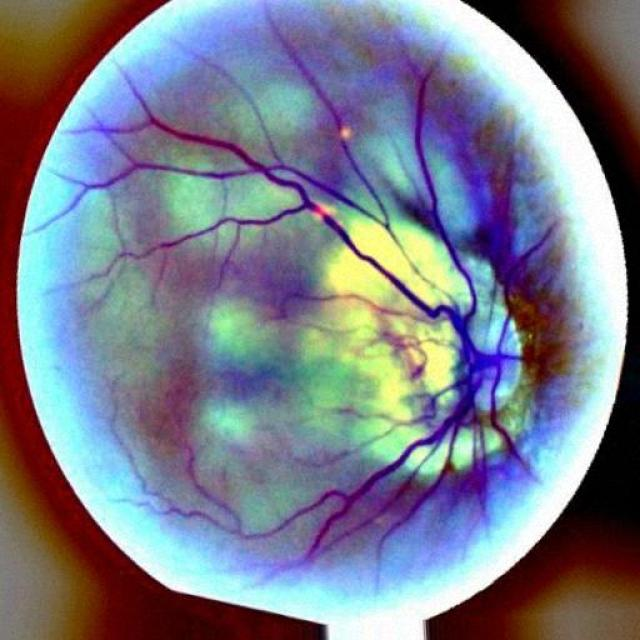Nerves: (60, 54, 479, 345), (411, 44, 484, 336)
Optic Disk: (469, 309, 521, 407)
